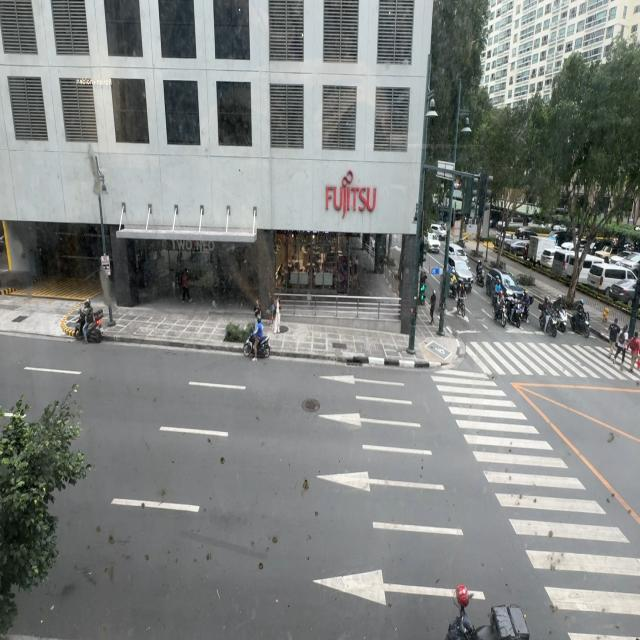crossing: (614, 326, 628, 365), (608, 317, 620, 358)
